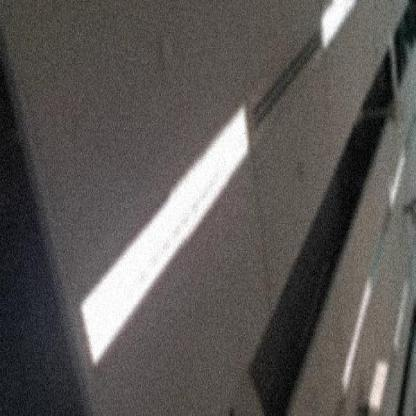light_on: (72, 92, 259, 384), (335, 263, 374, 398), (315, 0, 358, 67), (382, 142, 412, 215), (390, 271, 412, 357)
